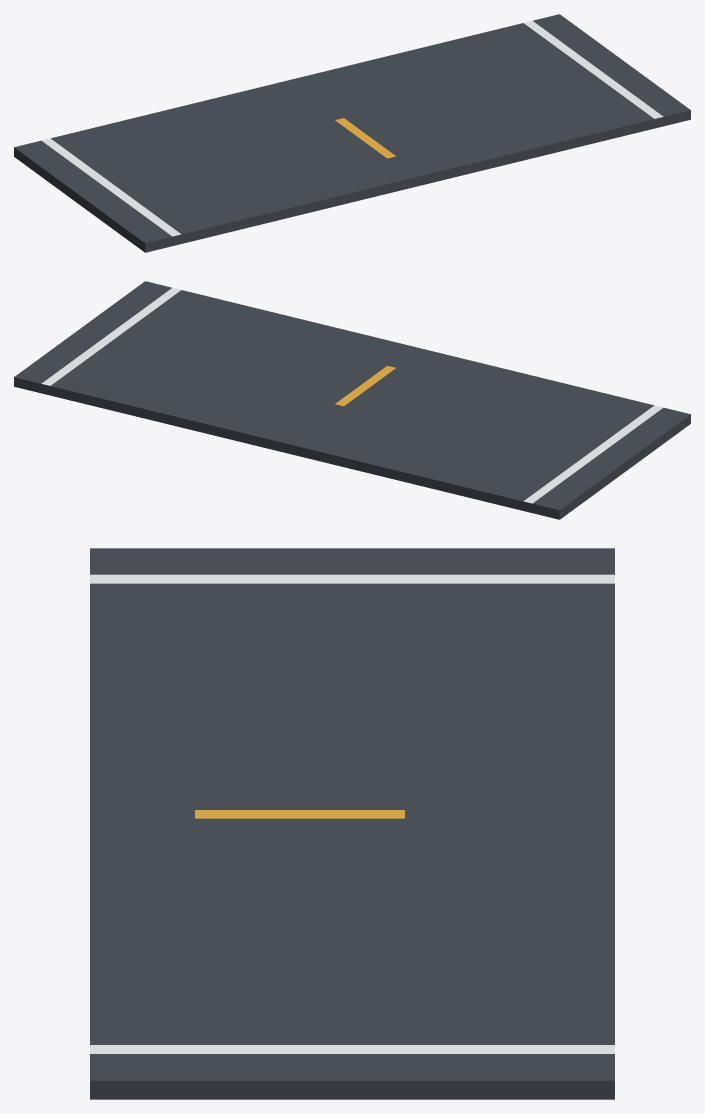
The model's file is CM_Road_Short.fbx.
The picture shows the model from 3 angles, top to bottom: view 1: azimuth 30°, elevation 25°; view 2: azimuth 150°, elevation 25°; view 3: azimuth 270°, elevation 25°; orthographic projection. The views are drawn at different scales.
Visible parts, largest first — view 1: Road; view 2: Road; view 3: Road.
Part boxes in pixels (x1,y1,x2,y2): Road: [14, 14, 690, 252]; Road: [14, 281, 690, 519]; Road: [90, 548, 614, 1099].
Bounding box in the file's own units: 24 × 10 × 0.403.
1 material, 1 textured.
